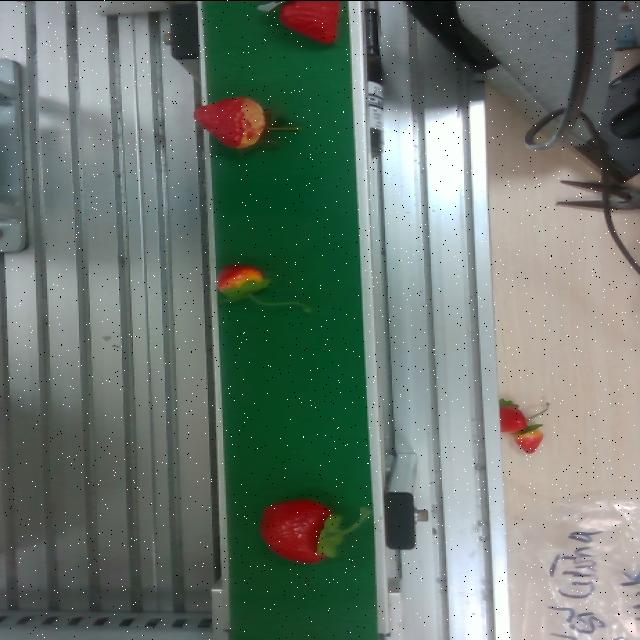Large Ripe Strawberry: (255, 479, 362, 576)
Moldy Strawberry: (192, 88, 276, 150)
Small Ripe Strawberry: (254, 0, 342, 46)
Small Unripe Strawberry: (204, 257, 278, 305)
conveyor: (194, 0, 367, 640)
